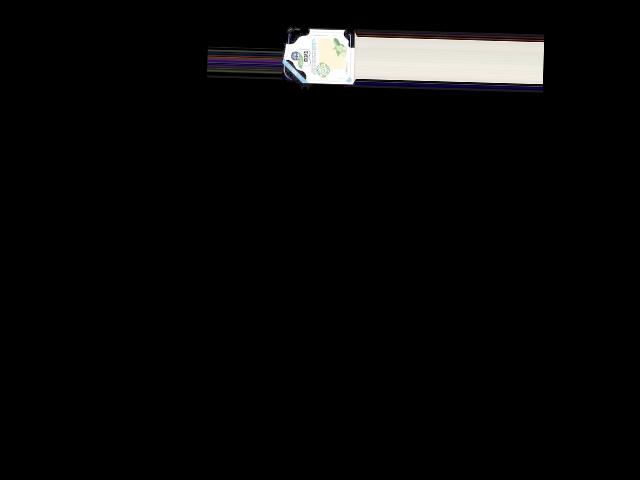cheese: (283, 25, 357, 87)
